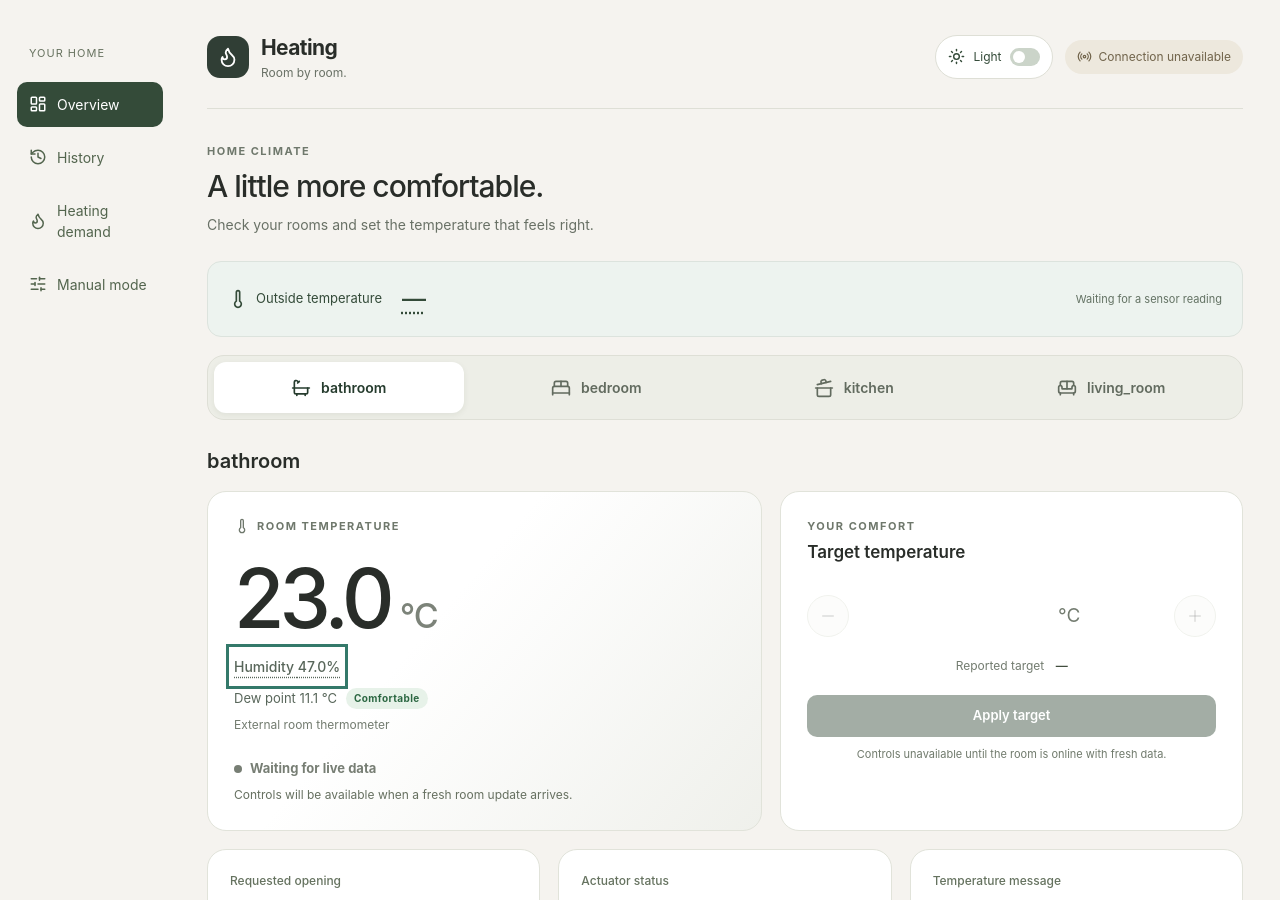
Test: opens humidity and outside temperature history from their values
Expected: the tab "bathroom" is shown, [214, 362, 464, 413]
Click the button with aria-label "Show humidity history": (287, 666) [234, 652, 340, 681]
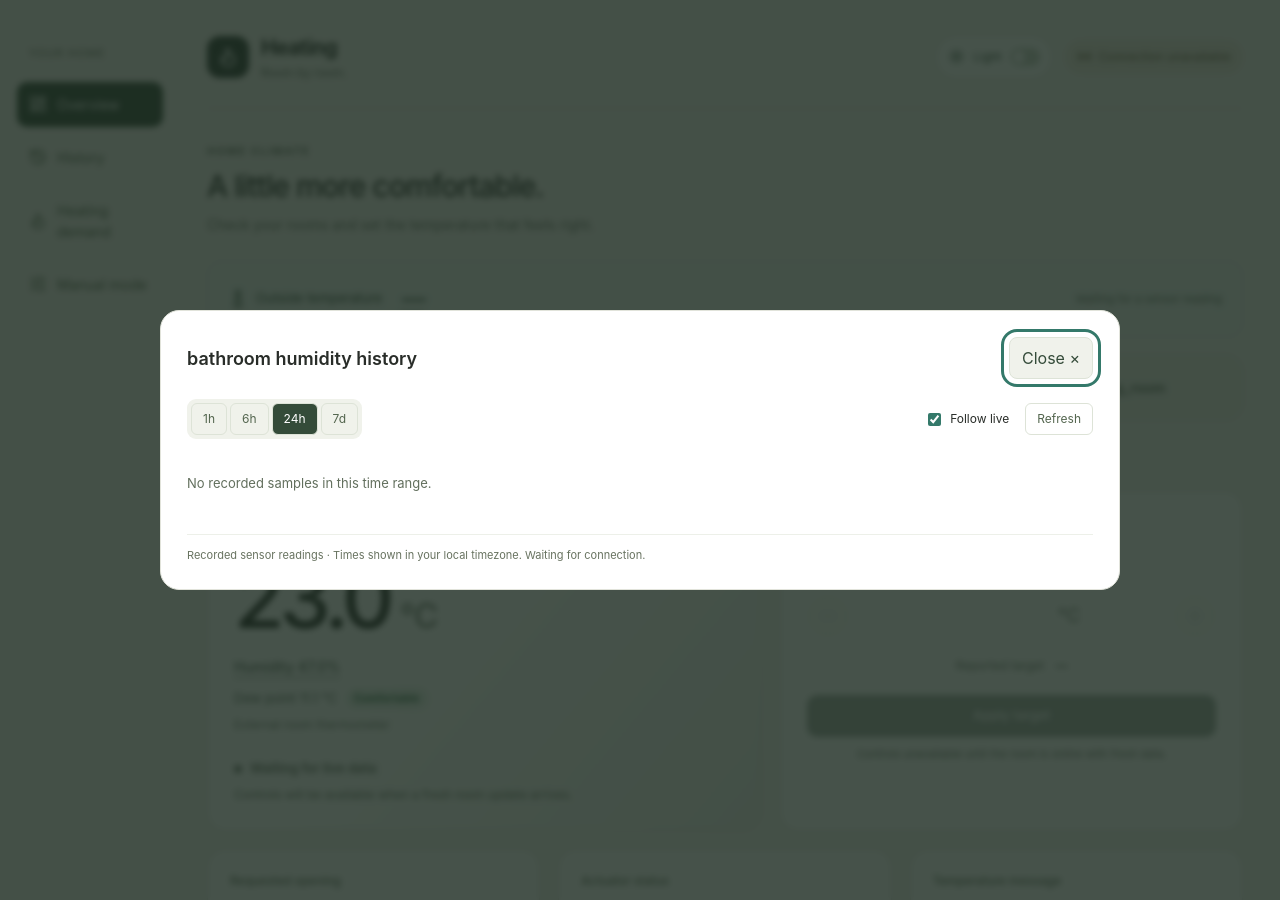
Now the dialog "bathroom humidity history" is shown, box [160, 310, 1120, 590]
Now the text "No recorded samples in this time range." is shown, box [187, 475, 432, 491]
Click the button with aria-label "Close history": (1051, 358) [1009, 337, 1093, 379]
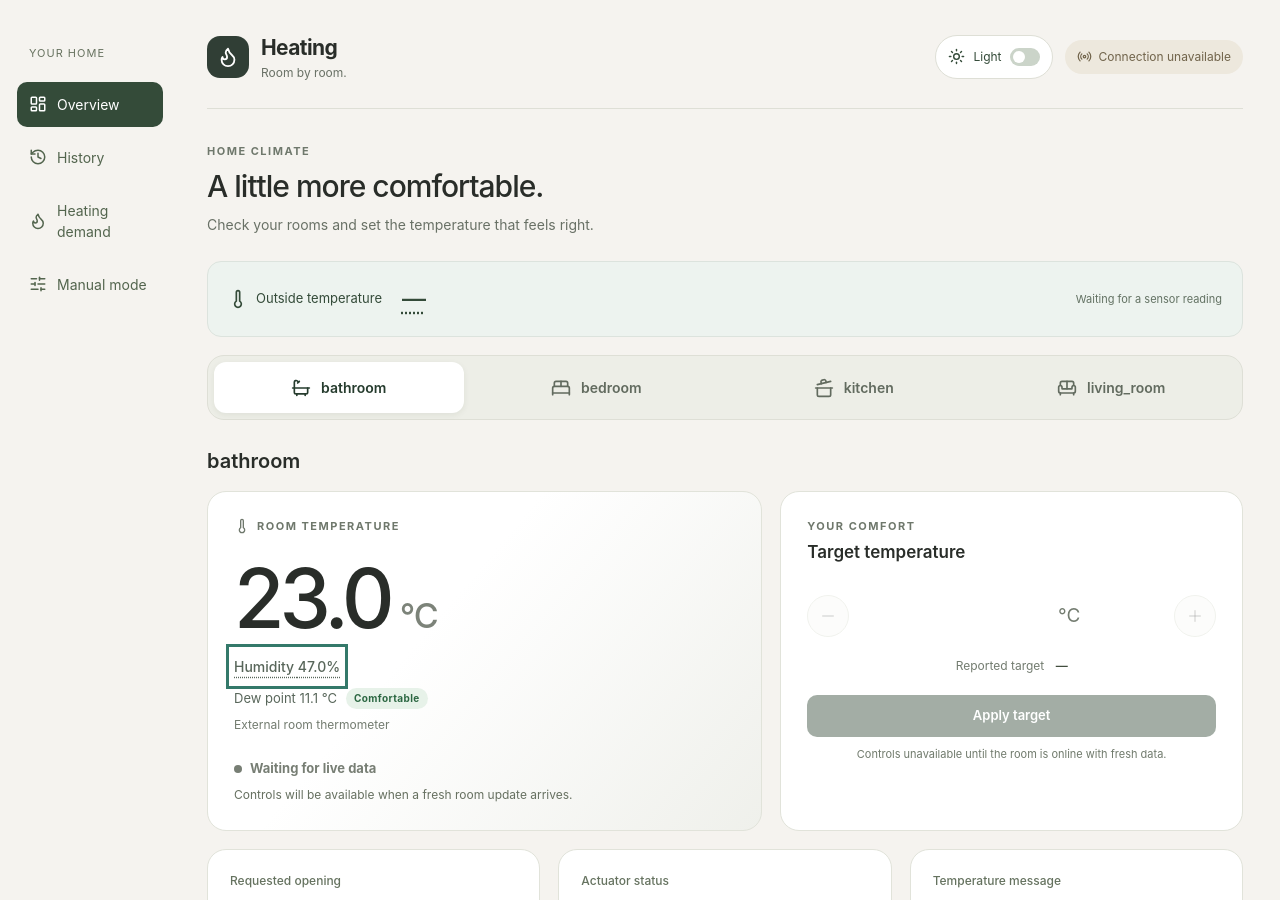
Now the dialog is gone
Click the button named "Show outside temperature history": (414, 299) [402, 277, 426, 321]
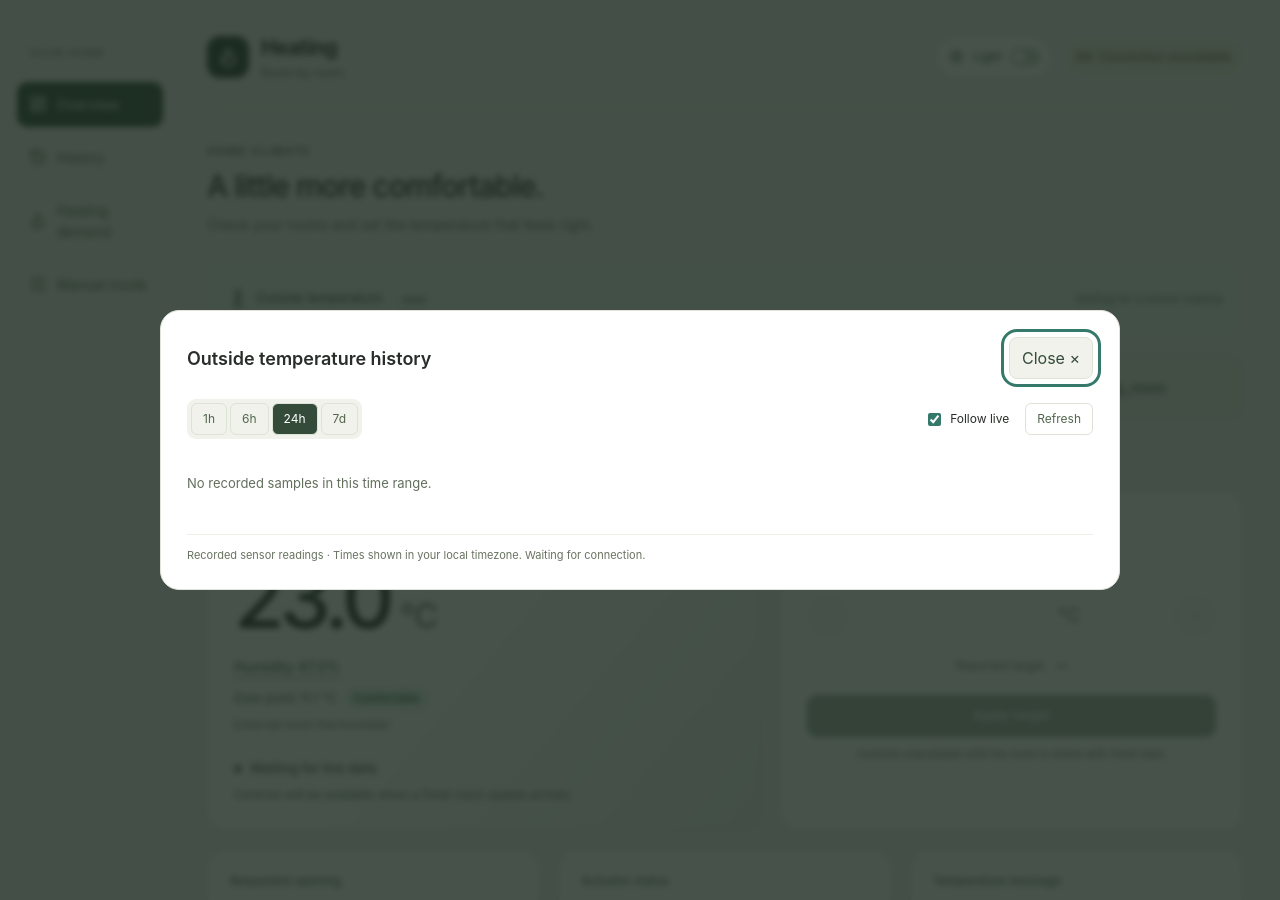
Now the dialog "Outside temperature history" is shown, box [160, 310, 1120, 590]
Now the text "No recorded samples in this time range." is shown, box [187, 475, 432, 491]
